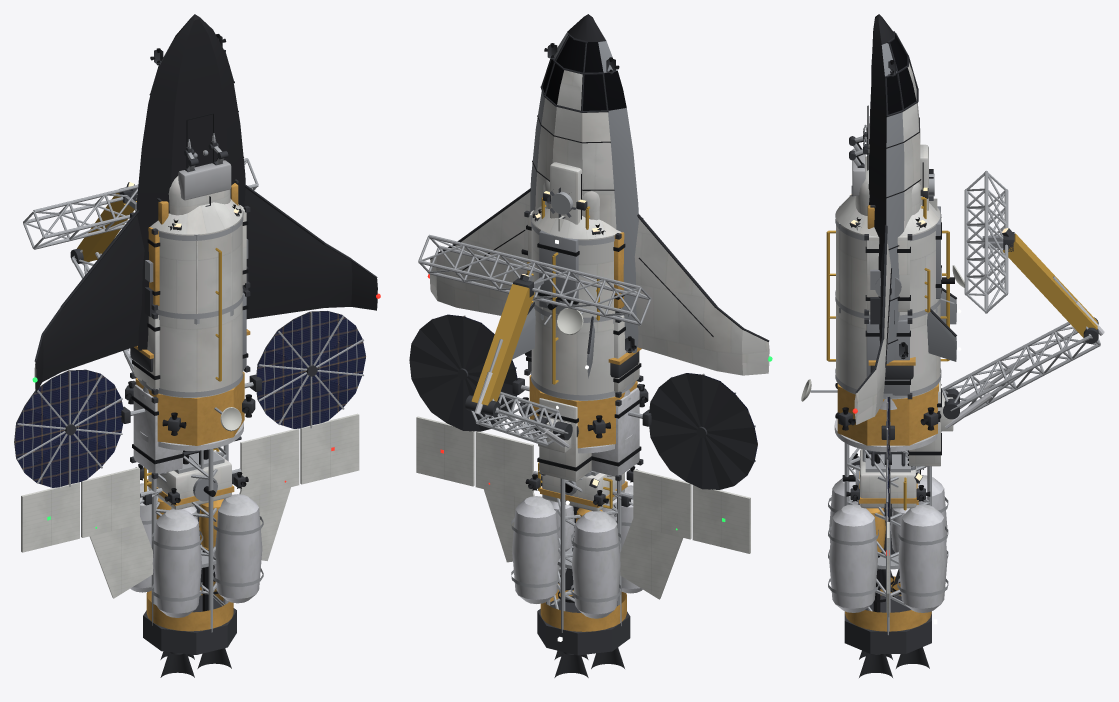
Rendered from traffic.glb.
3 views of the same model, side by side, from view 1: azimuth 30°, elevation 25°; view 2: azimuth 150°, elevation 25°; view 3: azimuth 270°, elevation 25° (orthographic).
Parts seen in each view (by area): view 1: craft, crane, shuttle, hauler, pod; view 2: crane, shuttle, craft, hauler, pod; view 3: crane, craft, shuttle, hauler, pod.
Part boxes in pixels (box(x1,y1,x2,y2)): craft: box(14, 196, 365, 487); crane: box(21, 158, 359, 677); shuttle: box(34, 14, 377, 398); hauler: box(89, 205, 290, 598); pod: box(157, 133, 241, 230); crane: box(416, 214, 750, 677); shuttle: box(430, 14, 769, 401); craft: box(409, 206, 757, 489); hauler: box(484, 210, 682, 602); pod: box(532, 179, 605, 234); crane: box(828, 170, 1104, 677); craft: box(801, 186, 949, 521); shuttle: box(854, 14, 956, 424); hauler: box(842, 206, 941, 617); pod: box(849, 124, 937, 230).
Bounding box in the file's own units: 0.428 × 0.769 × 0.3219.
80 materials, 24 textured.
